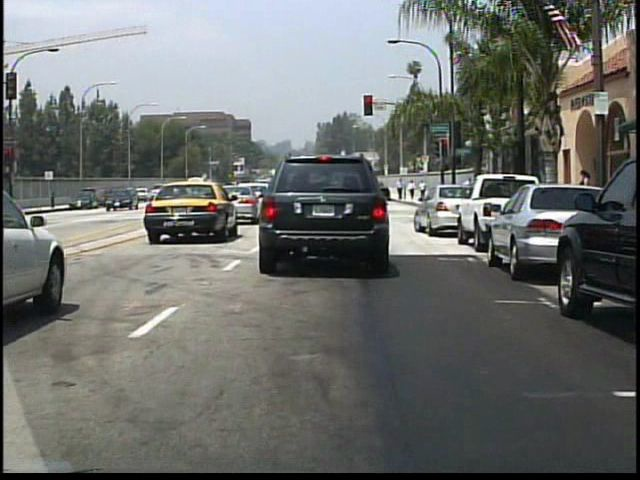person: (574, 167, 593, 221), (459, 175, 479, 219), (419, 179, 428, 204), (408, 179, 417, 202), (397, 177, 405, 200)
